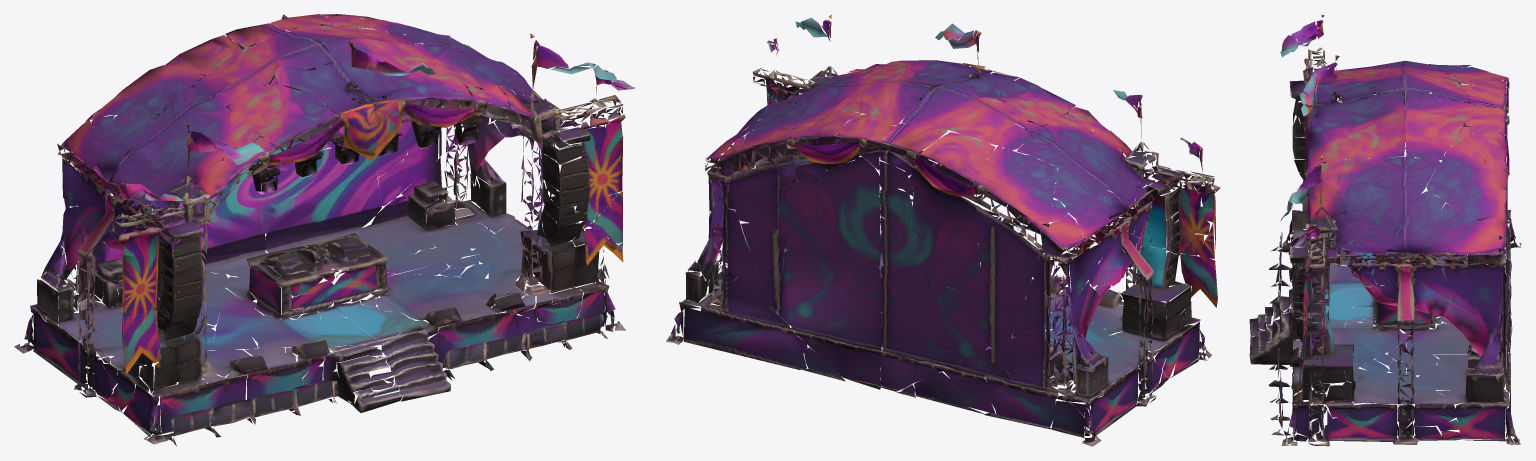
File: stage.glb
3 views of the same model, side by side, from view 1: azimuth 30°, elevation 25°; view 2: azimuth 150°, elevation 25°; view 3: azimuth 270°, elevation 25° (orthographic). The views are drawn at different scales.
Visible parts, largest first — view 1: tripo_node_0d21c58f-fa04-4fa1-86e7-f2311e95c033; view 2: tripo_node_0d21c58f-fa04-4fa1-86e7-f2311e95c033; view 3: tripo_node_0d21c58f-fa04-4fa1-86e7-f2311e95c033.
Part boxes in pixels (x1=…): tripo_node_0d21c58f-fa04-4fa1-86e7-f2311e95c033: x1=14, y1=14, x2=635, y2=446; tripo_node_0d21c58f-fa04-4fa1-86e7-f2311e95c033: x1=666, y1=14, x2=1220, y2=446; tripo_node_0d21c58f-fa04-4fa1-86e7-f2311e95c033: x1=1249, y1=15, x2=1521, y2=446.
Size of the model in its own units: 9.69 by 5.98 by 5.11.
Materials: 1 (1 with a texture image).
